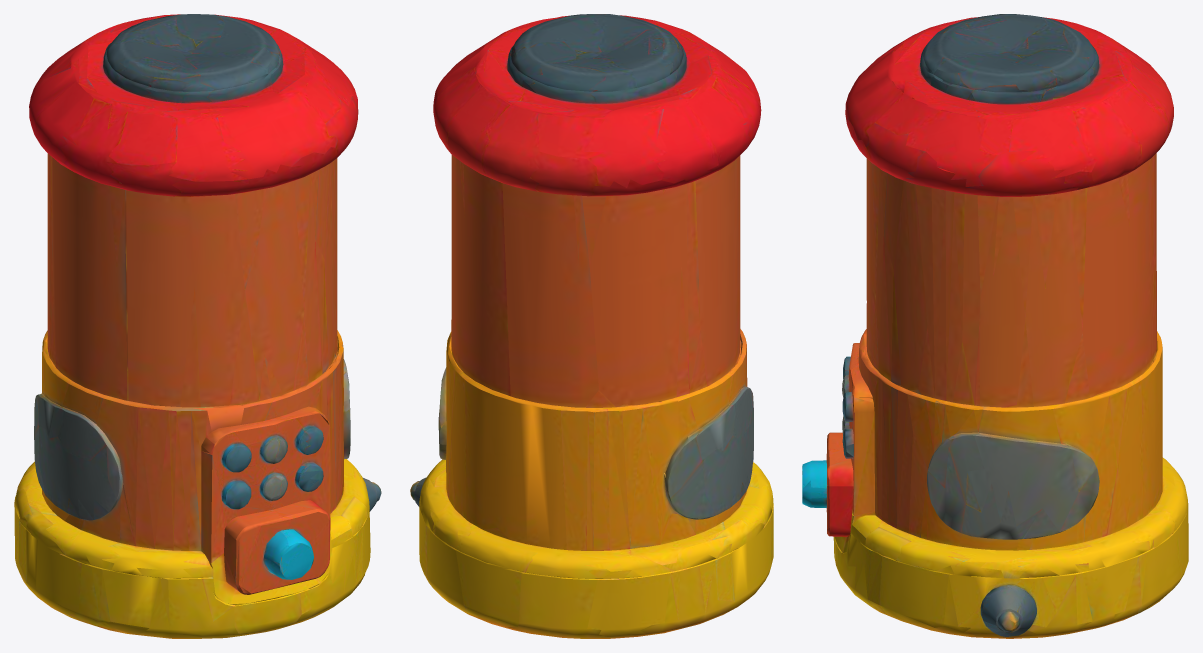
File: colourMachine.84f892ed.glb
3 views of the same model, side by side, from view 1: azimuth 30°, elevation 25°; view 2: azimuth 150°, elevation 25°; view 3: azimuth 270°, elevation 25° (orthographic).
Visible parts, largest first — view 1: output_unwrapped; view 2: output_unwrapped; view 3: output_unwrapped.
Boxes of the visible parts, x1,y1,x2,y2 form: output_unwrapped: (14, 14, 381, 638); output_unwrapped: (410, 14, 773, 638); output_unwrapped: (802, 14, 1188, 638).
Size of the model in its own units: 1.28 by 1.9 by 1.27.
1 material, 1 textured.
